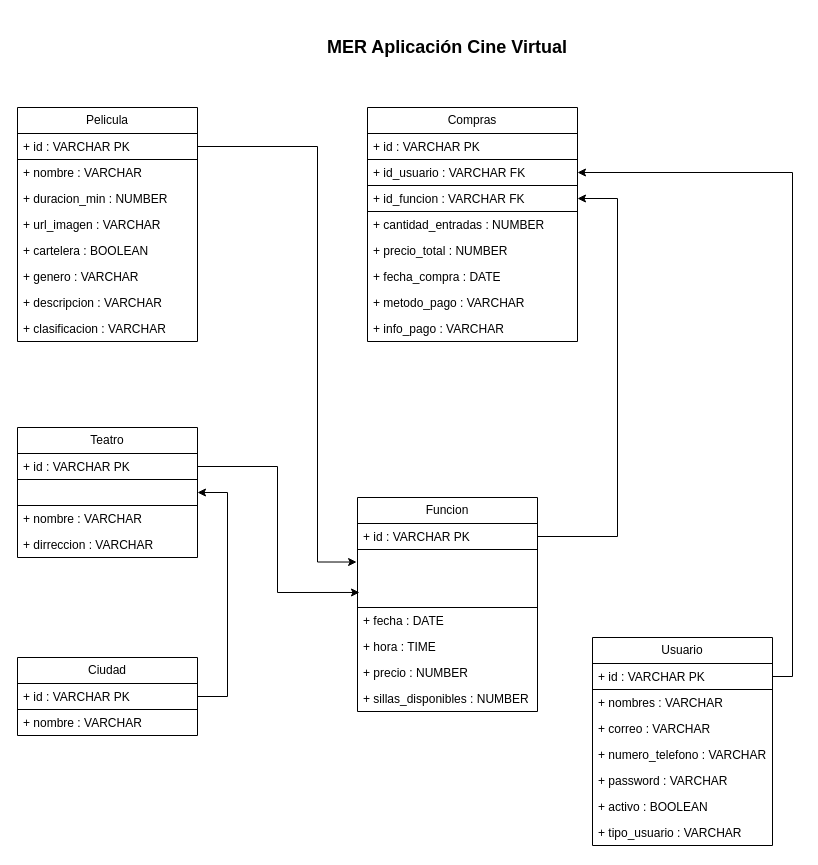
The diagram is 818 pixels wide and 865 high, and some of its shapes have lost their labels. Each missing label, with the centre of its shape:
"+ id_ciudad : VARCHAR FK" belongs at pixel 107 492.
"+ id_pelicula : VARCHAR FK + id_teatro : VARCHAR FK" belongs at pixel 447 578.
